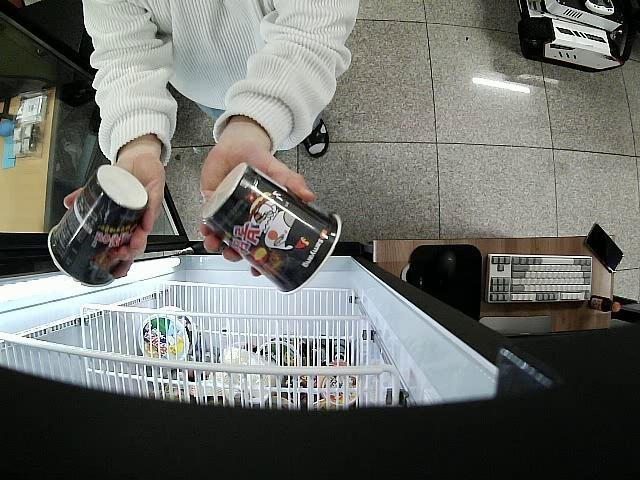08_buldak_S: (201, 162, 344, 296), (47, 163, 150, 287)
